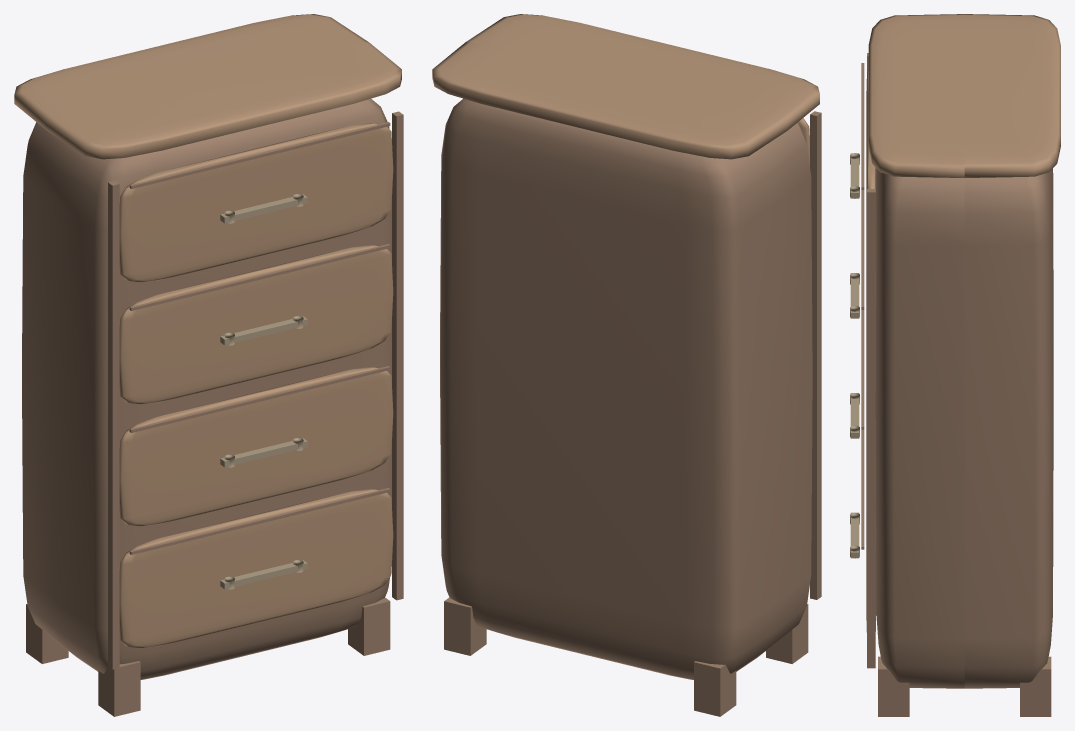
Rendered from room_dresser_phone_v01.glb.
3 views of the same model, side by side, from view 1: azimuth 30°, elevation 25°; view 2: azimuth 150°, elevation 25°; view 3: azimuth 270°, elevation 25° (orthographic).
Visible parts, largest first — view 1: Art Four Drawer Dresser v01; view 2: Art Four Drawer Dresser v01; view 3: Art Four Drawer Dresser v01.
Part boxes in pixels (bbox=[...]): Art Four Drawer Dresser v01: bbox=[14, 14, 403, 716]; Art Four Drawer Dresser v01: bbox=[432, 14, 821, 716]; Art Four Drawer Dresser v01: bbox=[850, 14, 1060, 716].
Bounding box in the file's own units: 0.6968 × 1.18 × 0.4018.
